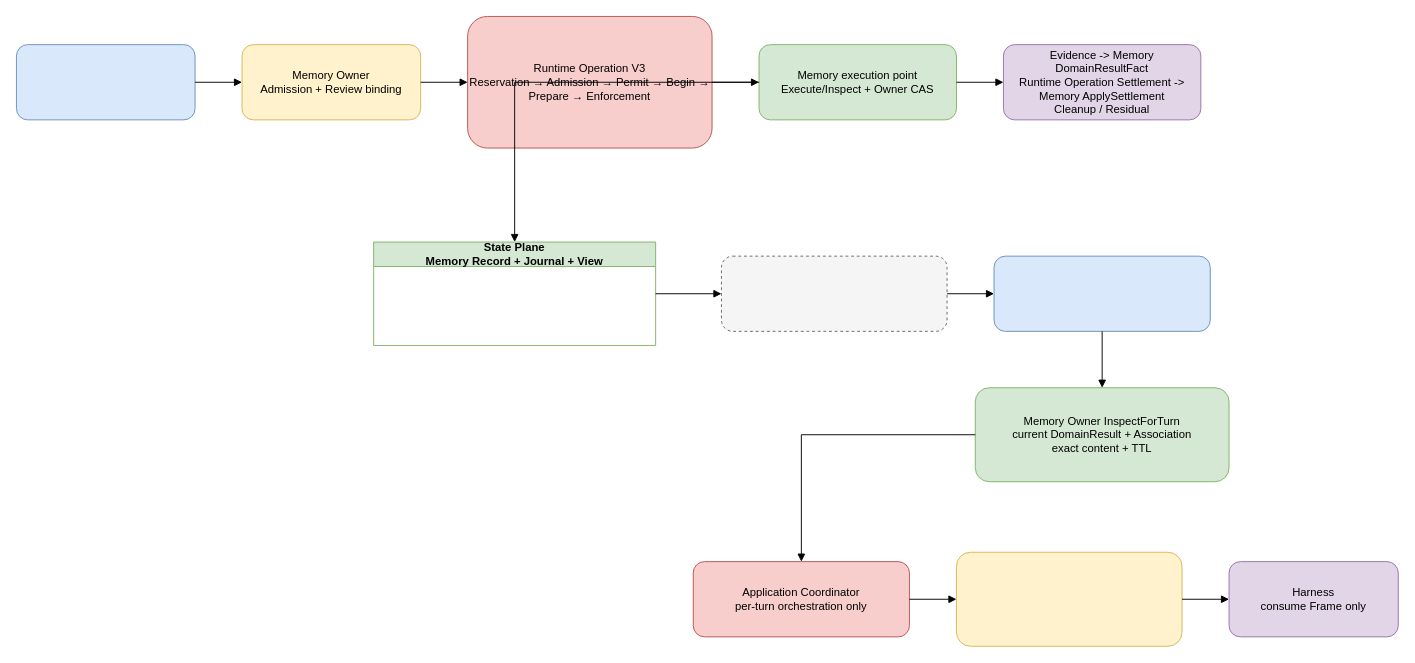
This 1415x663 diagram has some shape labels left out. Each missing label, with the box of its shape:
Context Owner materialize + budget + freeze exact Frame Ref: (956, 551, 1182, 646)
Observation / Memory Candidate Sandbox or Data Plane: (16, 44, 195, 120)
Rebuildable Projections Skill / Lexical / Vector / Graph: (721, 255, 947, 331)
Retrieval Observation + Result refs not Candidate / not Frame: (993, 255, 1210, 331)
